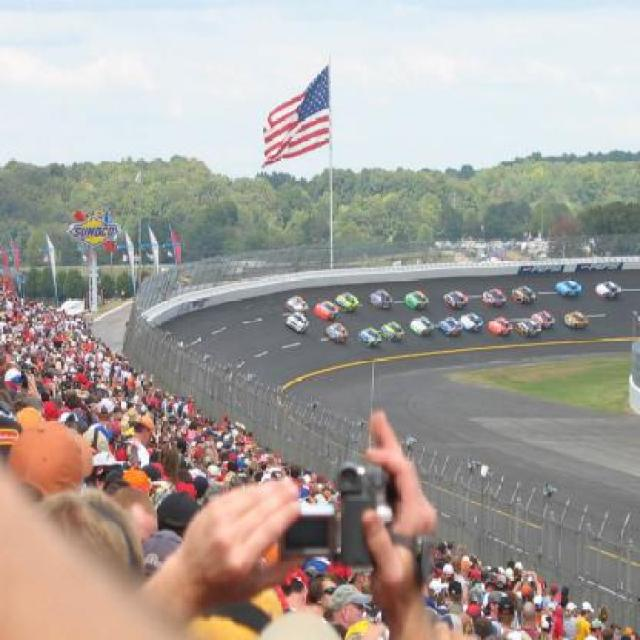Person: (0, 384, 638, 638), (134, 411, 438, 638)
